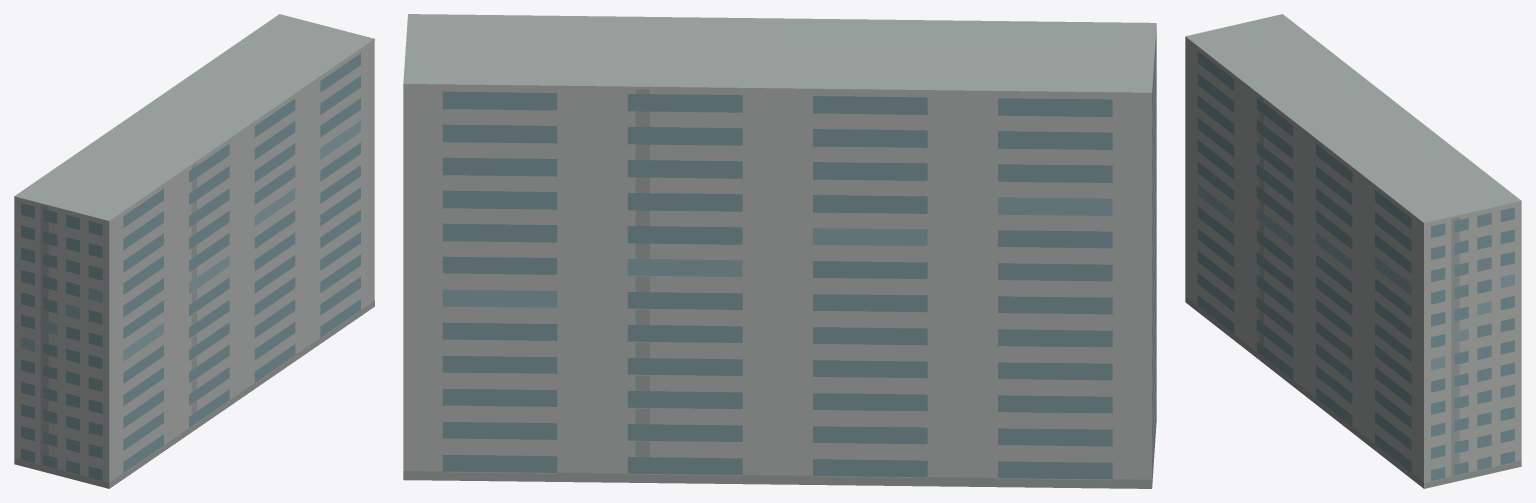
The model's file is residential-1e045e6d-8392-4d13-a2fe-410c2de6e56c.glb.
3 renders of one model, left to right at view 1: azimuth 30°, elevation 25°; view 2: azimuth 150°, elevation 25°; view 3: azimuth 270°, elevation 25°, orthographic. The views are drawn at different scales.
Visible parts, largest first — view 1: residential-1e045e6d-8392-4d13-a2fe-410c2de6e56c.tmp; view 2: residential-1e045e6d-8392-4d13-a2fe-410c2de6e56c.tmp; view 3: residential-1e045e6d-8392-4d13-a2fe-410c2de6e56c.tmp.
Boxes of the visible parts, bbox=[...] form: residential-1e045e6d-8392-4d13-a2fe-410c2de6e56c.tmp: bbox=[14, 14, 374, 488]; residential-1e045e6d-8392-4d13-a2fe-410c2de6e56c.tmp: bbox=[403, 14, 1156, 488]; residential-1e045e6d-8392-4d13-a2fe-410c2de6e56c.tmp: bbox=[1185, 14, 1521, 488].
Size of the model in its own units: 61.75 by 36.6 by 42.
